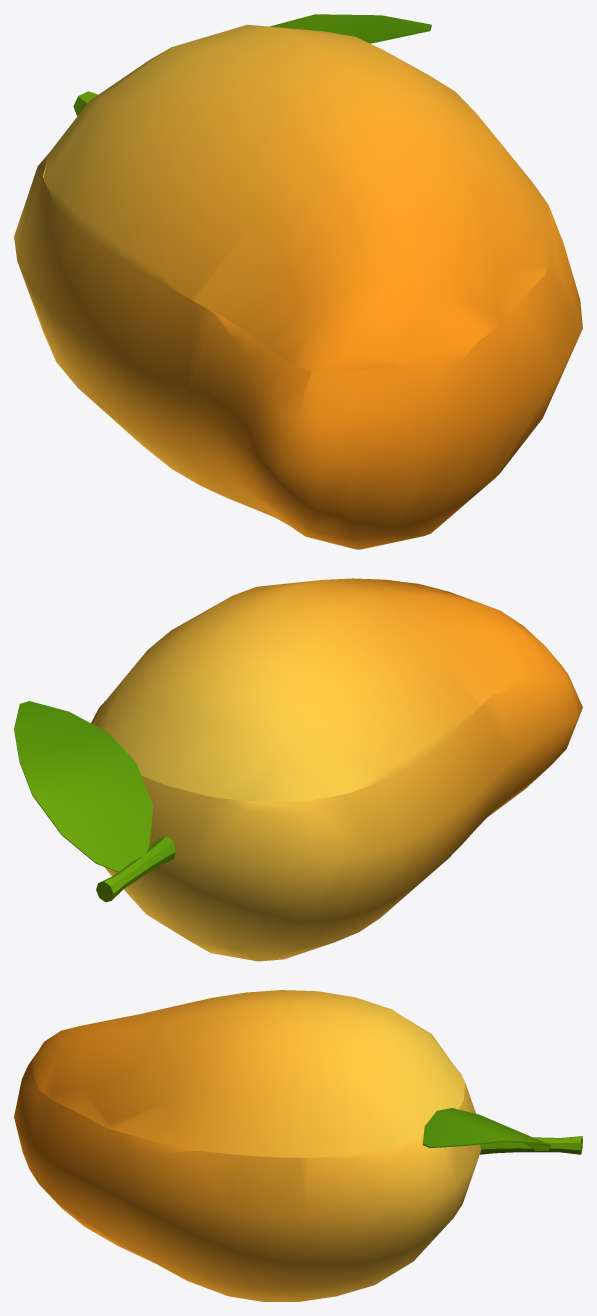
File: Mango_With_Pieces_M.fbx
The picture shows the model from 3 angles, top to bottom: view 1: azimuth 30°, elevation 25°; view 2: azimuth 150°, elevation 25°; view 3: azimuth 270°, elevation 25°; orthographic projection. The views are drawn at different scales.
Visible parts, largest first — view 1: Cut_Pieces, Mango; view 2: Mango, Cut_Pieces; view 3: Mango, Cut_Pieces.
Boxes of the visible parts, left/top/right/bottom form: Cut_Pieces: left=43, top=24, right=553, bottom=371; Mango: left=14, top=14, right=582, bottom=549; Mango: left=14, top=647, right=582, bottom=961; Cut_Pieces: left=95, top=578, right=545, bottom=801; Mango: left=14, top=1053, right=582, bottom=1301; Cut_Pieces: left=32, top=990, right=465, bottom=1157.
Bounding box in the file's own units: 61.48 × 55.87 × 99.31.
1 material, 1 textured.
